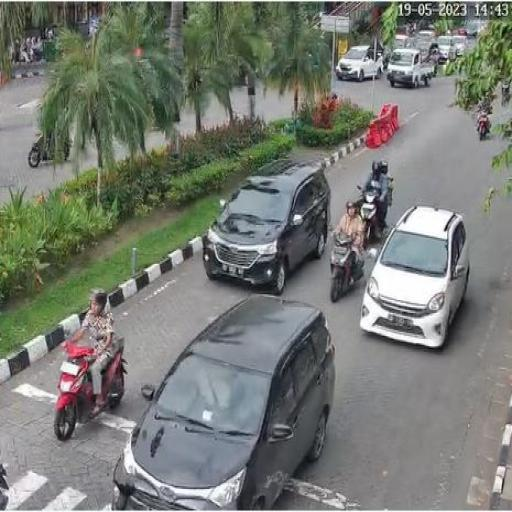mobil: (116, 300, 338, 512), (360, 202, 476, 350), (208, 163, 324, 287)
motor: (44, 313, 122, 448), (328, 224, 363, 307), (354, 190, 389, 246)
